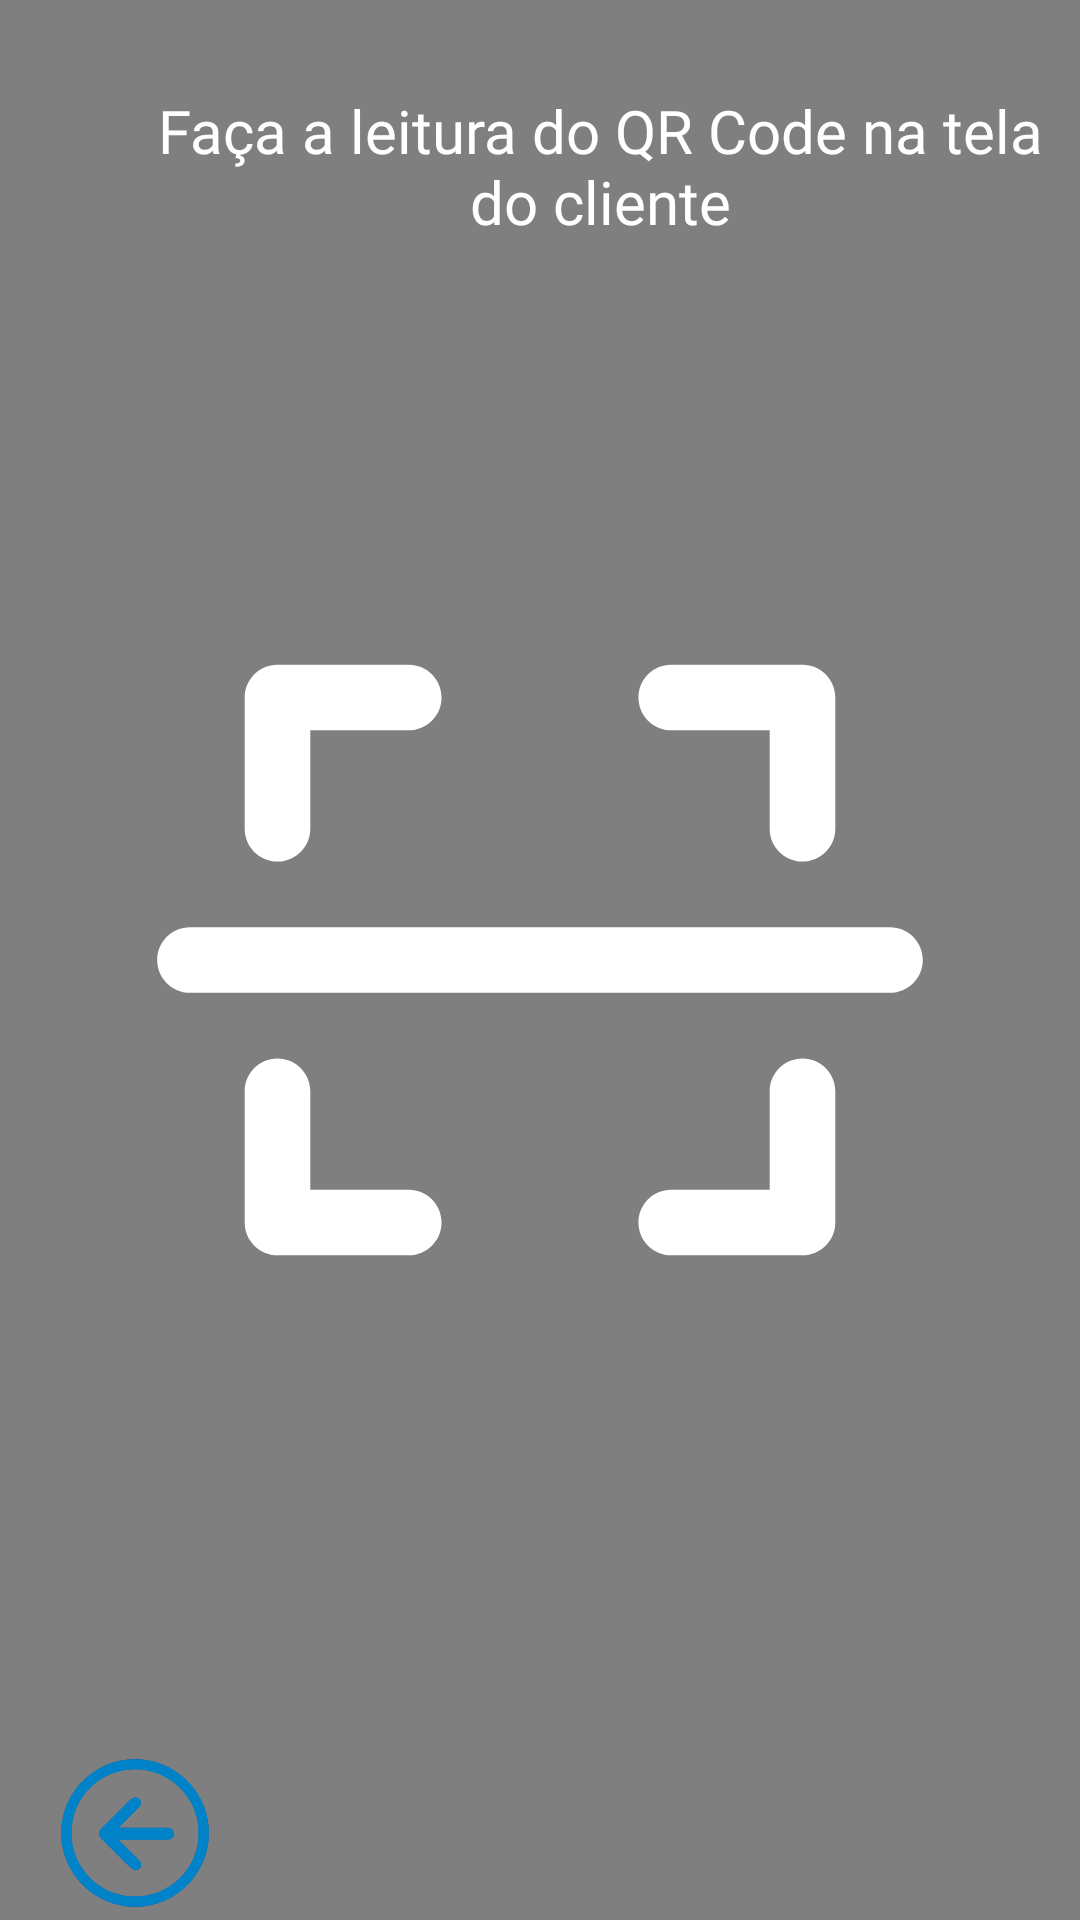

Named icons in this screenshot (1080 x 1920) and their centers, (x,y):
seta voltar: (135,1833)
